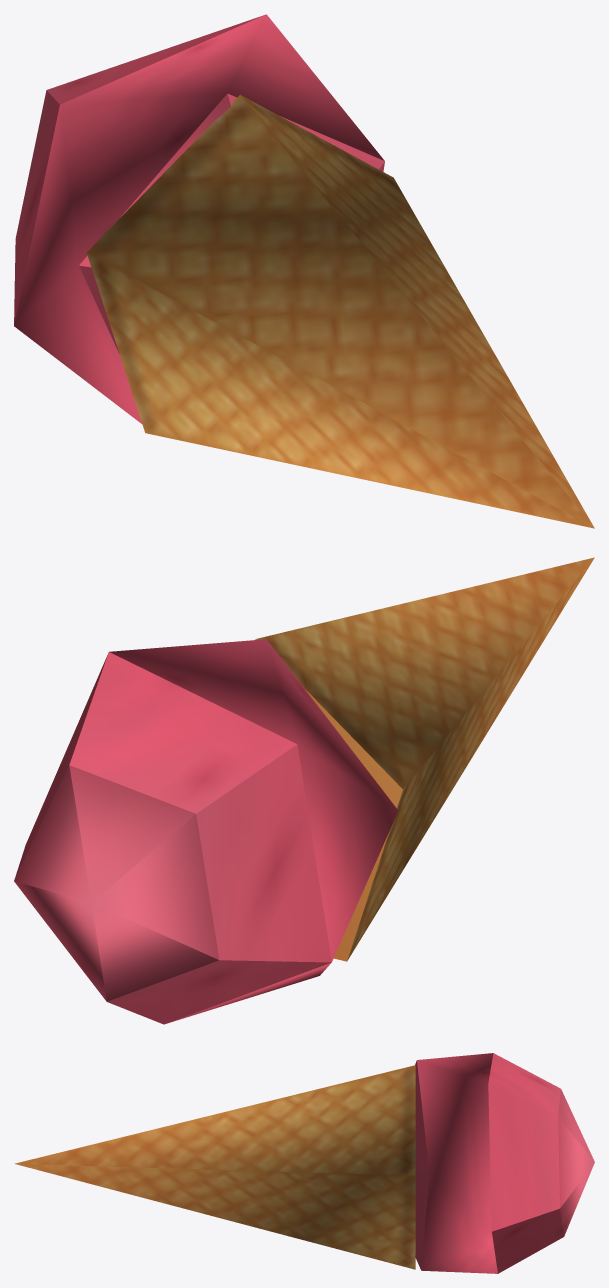
Rendered from IceCream_Cone_4.fbx.
3 views of the same model, one above another, from view 1: azimuth 30°, elevation 25°; view 2: azimuth 150°, elevation 25°; view 3: azimuth 270°, elevation 25° (orthographic). The views are drawn at different scales.
Parts seen in each view (by area): view 1: IceCream_Cone_4; view 2: IceCream_Cone_4; view 3: IceCream_Cone_4.
Part boxes in pixels (x1,y1,x2,y2): IceCream_Cone_4: [14, 14, 594, 528]; IceCream_Cone_4: [14, 557, 594, 1024]; IceCream_Cone_4: [14, 1053, 594, 1273].
Size of the model in its own units: 73.48 by 78.43 by 198.
